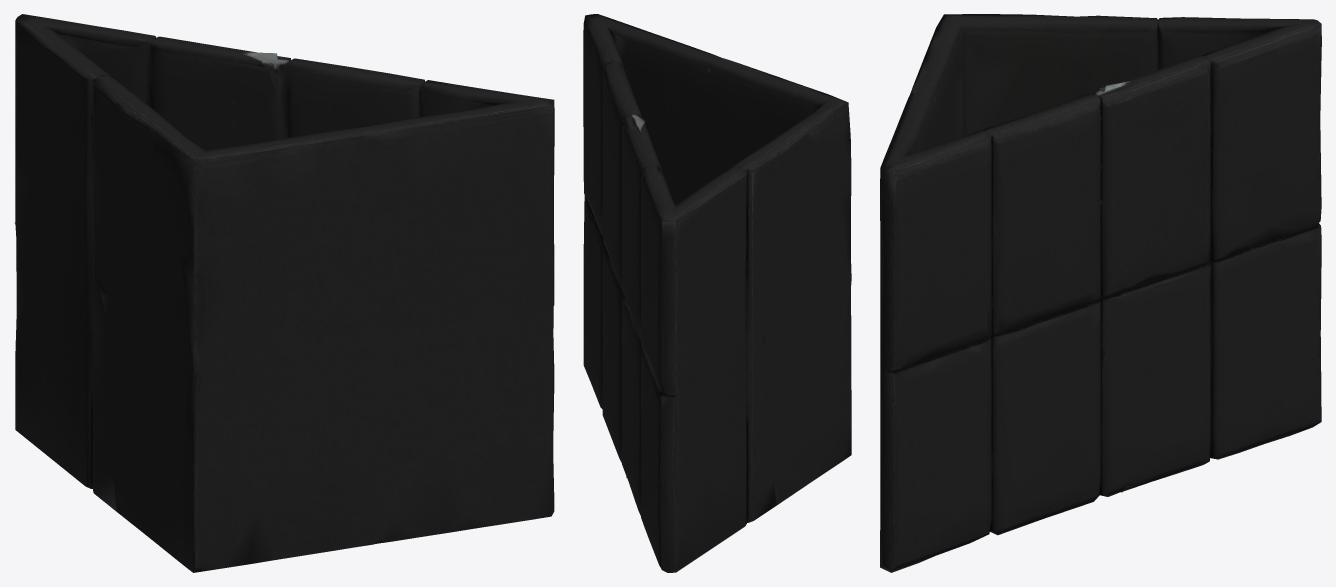
Rendered from acoustic_wall_panels_3d_model.fbx.
3 renders of one model, left to right at view 1: azimuth 30°, elevation 25°; view 2: azimuth 150°, elevation 25°; view 3: azimuth 270°, elevation 25°, orthographic. The views are drawn at different scales.
Parts seen in each view (by area): view 1: tripo_node_9f5e9437; view 2: tripo_node_9f5e9437; view 3: tripo_node_9f5e9437.
Boxes of the visible parts, x1,y1,x2,y2 form: tripo_node_9f5e9437: (15,14,554,572); tripo_node_9f5e9437: (583,14,851,572); tripo_node_9f5e9437: (880,14,1321,572).
Size of the model in its own units: 0.834 by 0.9946 by 0.9759.
